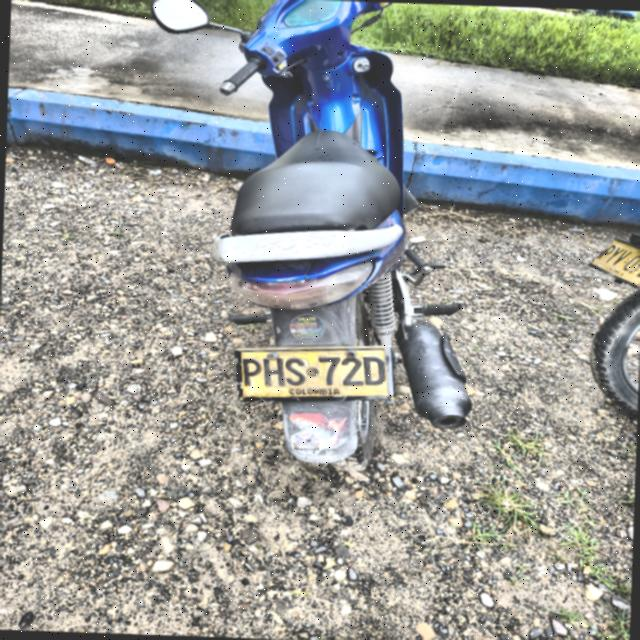plate: (236, 347, 392, 399)
